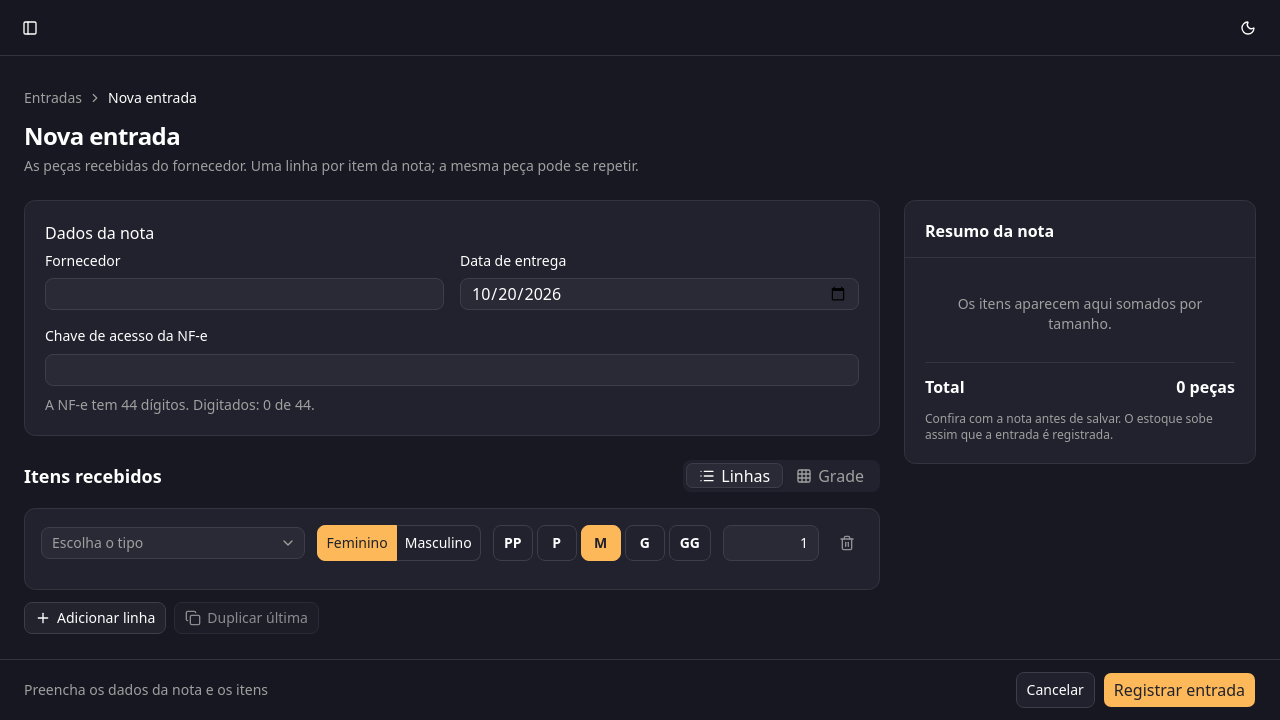
it: EntradaFormPage › mostra o nome do tipo escolhido, nunca o UUID
Click the dropdown named "Tipo da linha 1" at [98, 542], box [41,526,306,558]
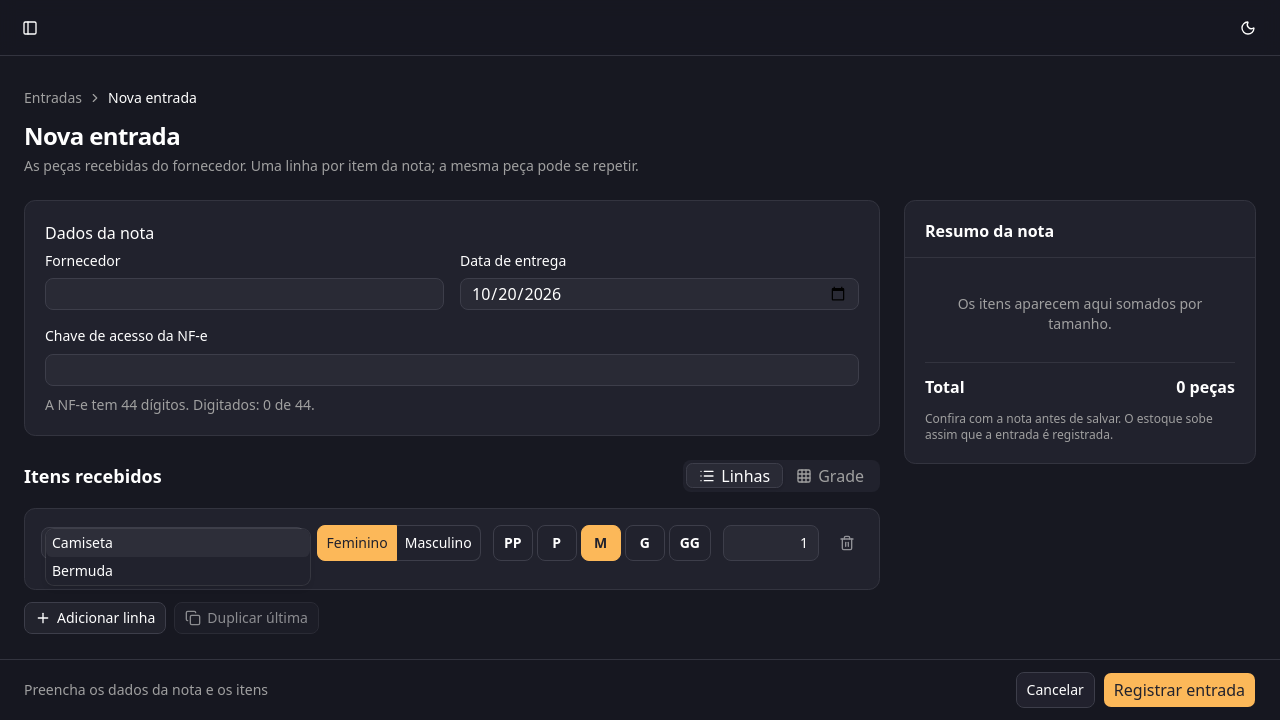
Click the option "Camiseta" at [82, 542], box [46,528,310,556]
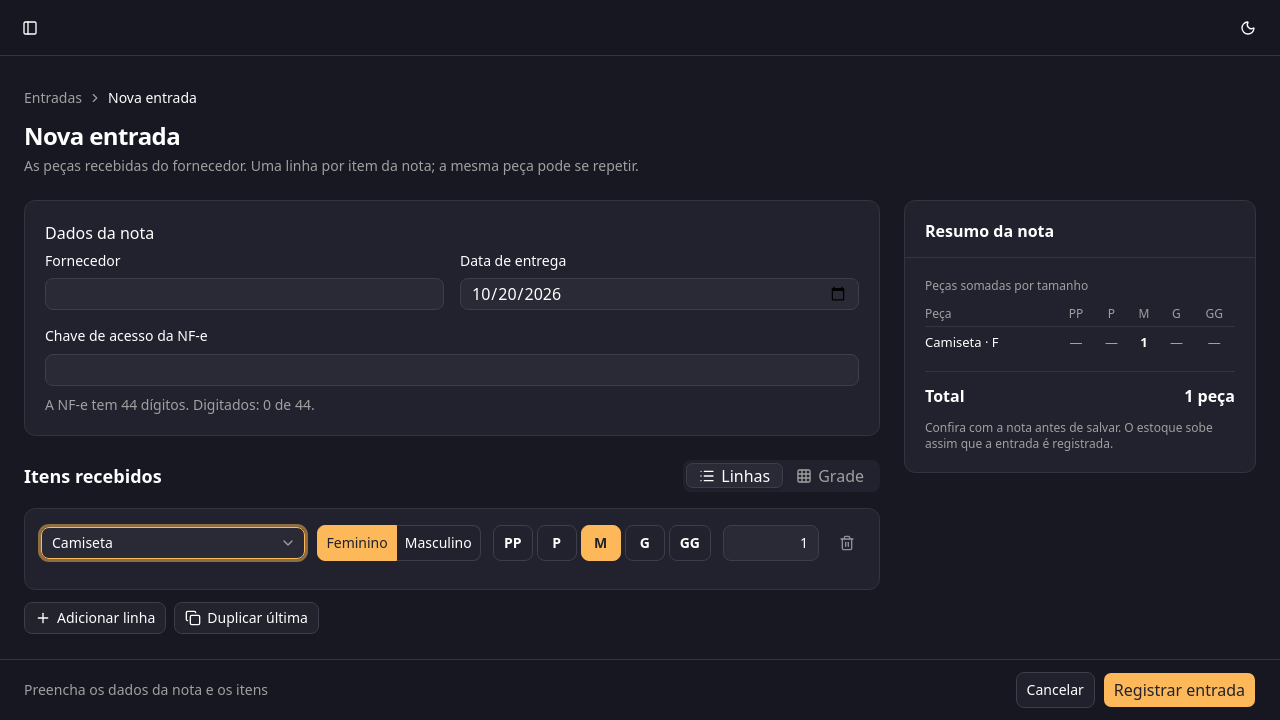
Expected: the dropdown named "Tipo da linha 1" does not show "3f9c2a71-8d4e-4b0a-9e51-0c1d2e3f4a5b", [41,526,306,558]
Expected: the dropdown named "Tipo da linha 1" shows "Camiseta", [41,526,306,558]
